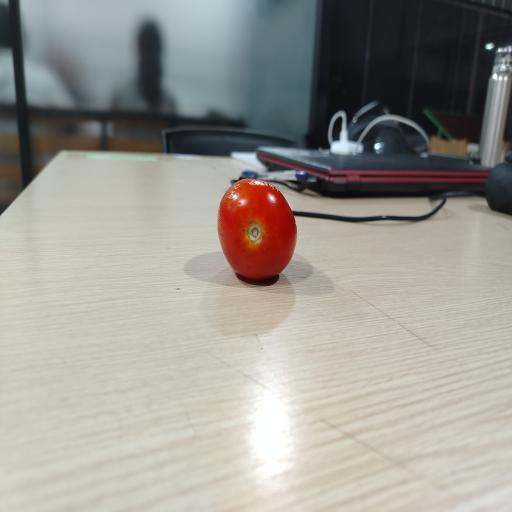spoiled: (218, 179, 297, 280)
